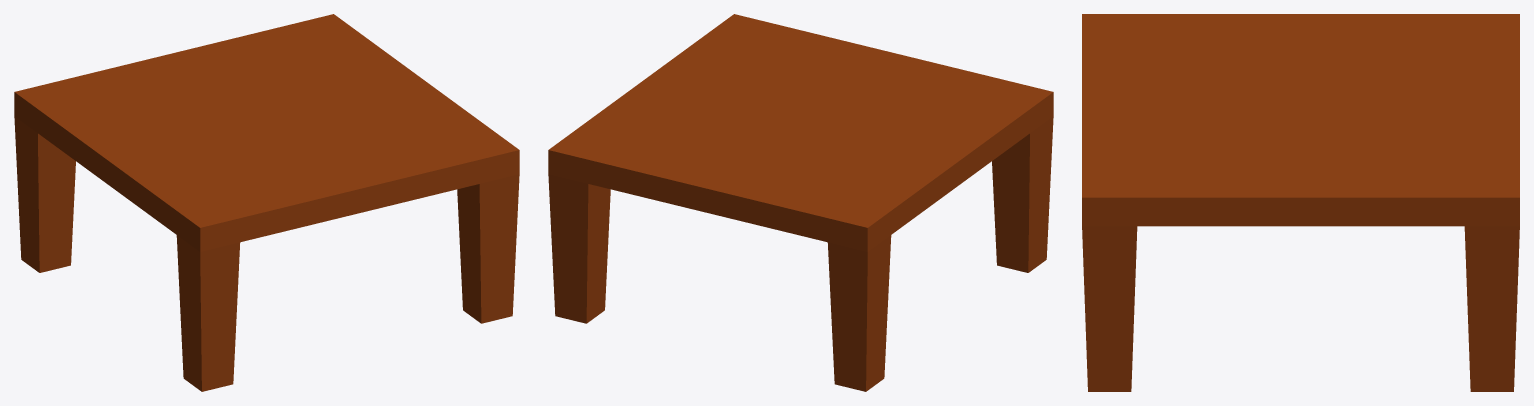
Rendered from stół2.fbx.
3 views of the same model, side by side, from view 1: azimuth 30°, elevation 25°; view 2: azimuth 150°, elevation 25°; view 3: azimuth 270°, elevation 25° (orthographic). The views are drawn at different scales.
Visible parts, largest first — view 1: Cube; view 2: Cube; view 3: Cube.
Boxes of the visible parts, bbox=[...] form: Cube: bbox=[14, 14, 519, 391]; Cube: bbox=[548, 14, 1053, 391]; Cube: bbox=[1082, 14, 1519, 391].
Size of the model in its own units: 393 by 197 by 396.
